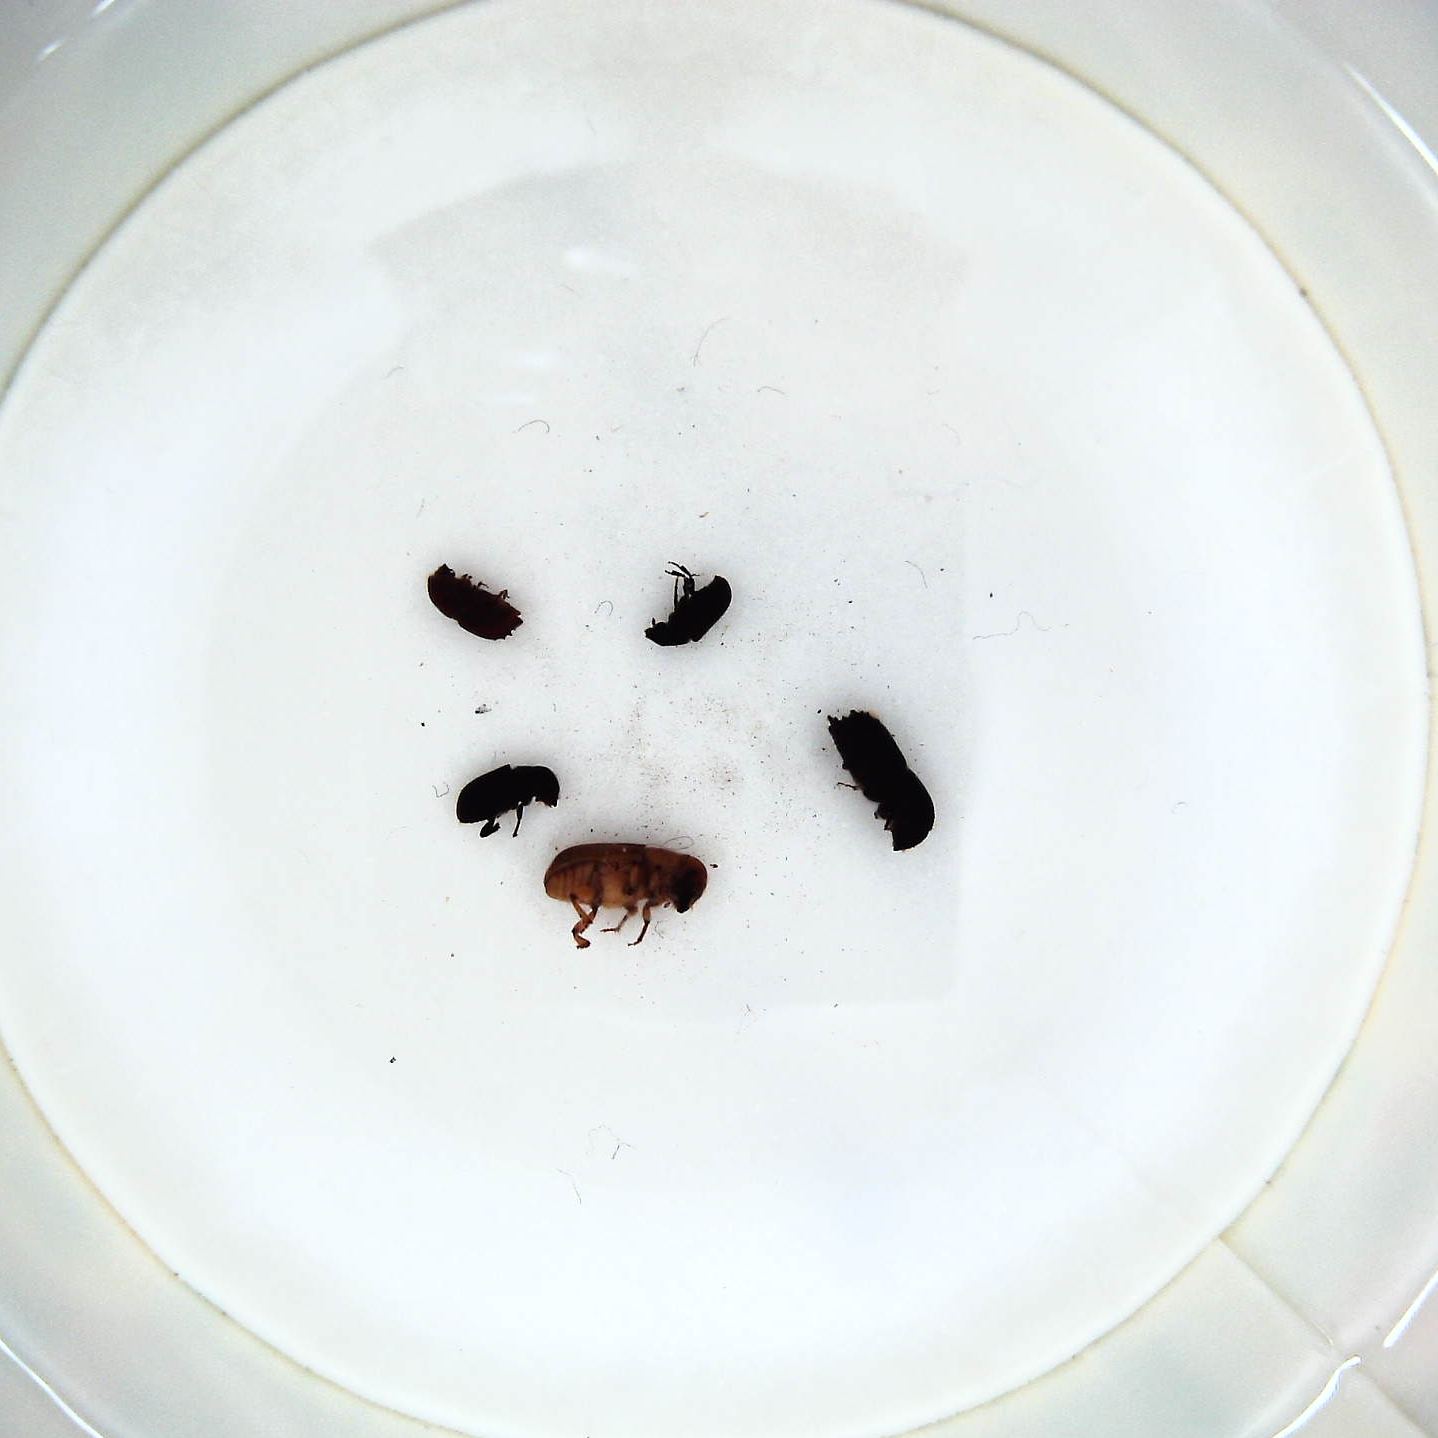Boerner: (818, 707, 940, 859)
Leconte: (535, 836, 712, 953)
armandi: (452, 762, 566, 841)
coleoptera: (640, 556, 740, 651)
linnaeus: (415, 561, 525, 651)
